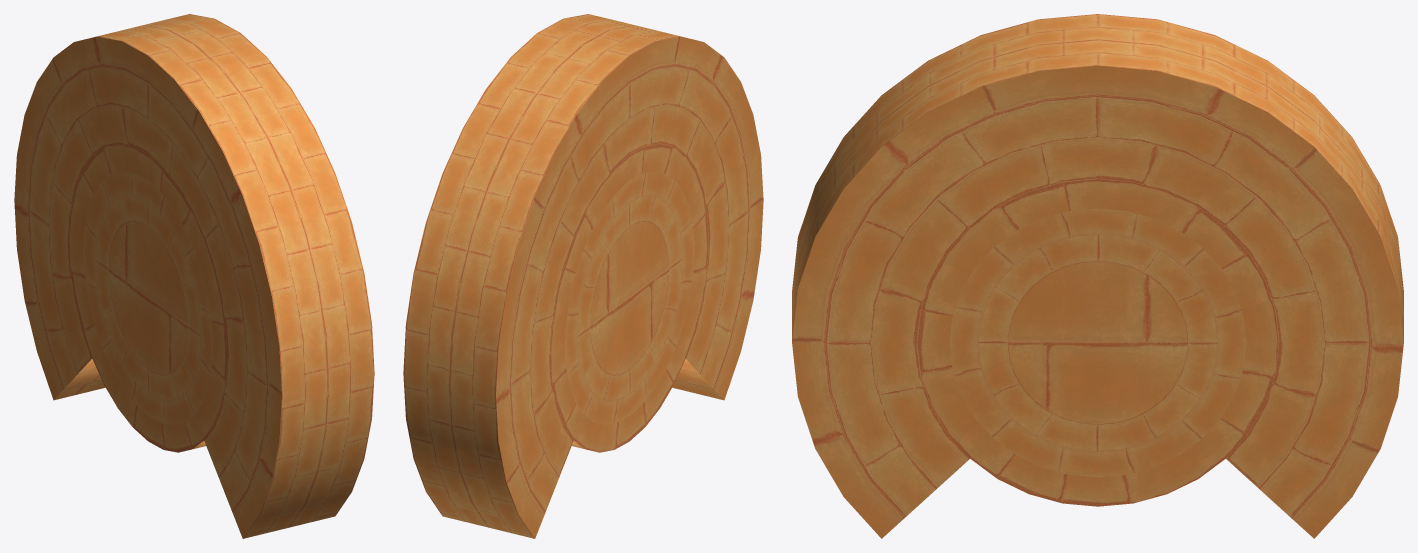
The model's file is temple-embelisher02-art.glb.
3 renders of one model, left to right at view 1: azimuth 30°, elevation 25°; view 2: azimuth 150°, elevation 25°; view 3: azimuth 270°, elevation 25°, orthographic. The views are drawn at different scales.
Visible parts, largest first — view 1: TempleEmbelisher02_Art; view 2: TempleEmbelisher02_Art; view 3: TempleEmbelisher02_Art.
Part boxes in pixels (left/top/right/bottom): TempleEmbelisher02_Art: left=14, top=14, right=374, bottom=538; TempleEmbelisher02_Art: left=403, top=14, right=763, bottom=538; TempleEmbelisher02_Art: left=792, top=14, right=1403, bottom=538.
Size of the model in its own units: 3.96 by 16.92 by 19.82.
Materials: 1 (1 with a texture image).
